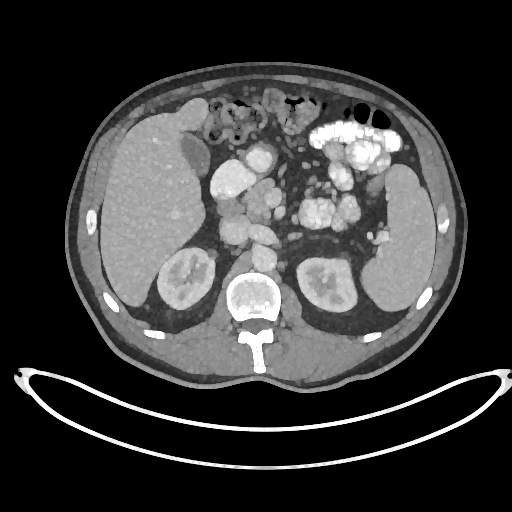Lesion: (204, 244, 220, 265)
